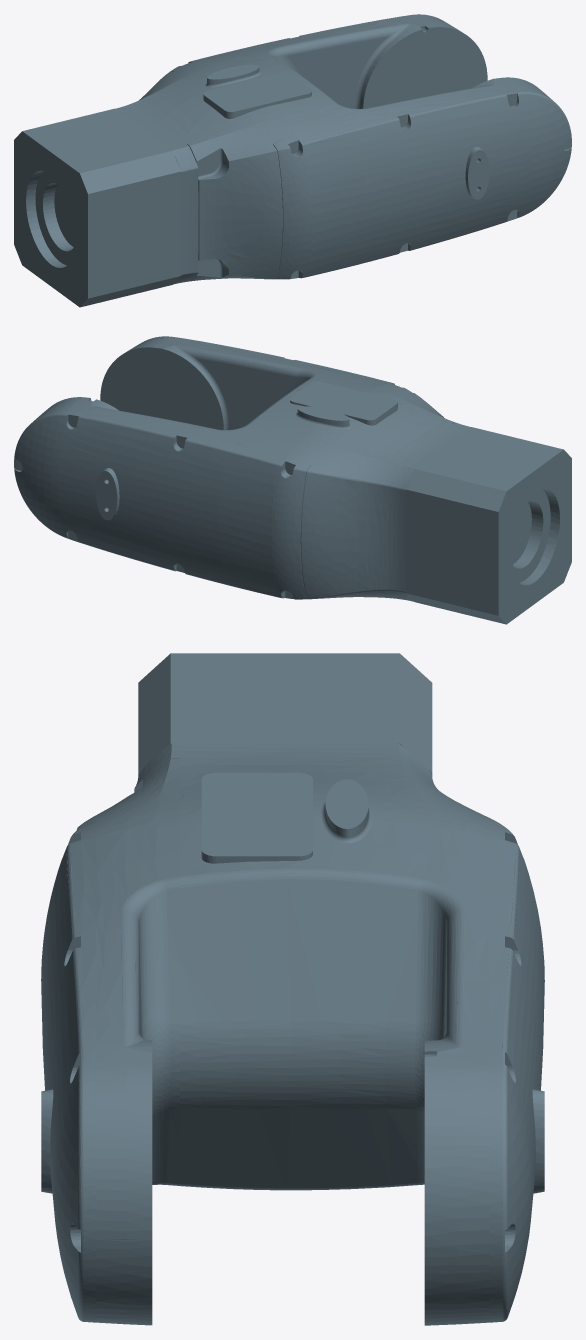
3 renders of one model, top to bottom at view 1: azimuth 30°, elevation 25°; view 2: azimuth 150°, elevation 25°; view 3: azimuth 270°, elevation 25°, orthographic. The views are drawn at different scales.
Parts seen in each view (by area): view 1: link_4; view 2: link_4; view 3: link_4.
Part boxes in pixels (x1,y1,x2,y2): link_4: (14, 14, 571, 307); link_4: (14, 336, 571, 624); link_4: (41, 653, 544, 1325).
Size of the model in its own units: 0.3495 by 0.1628 by 0.1208.
